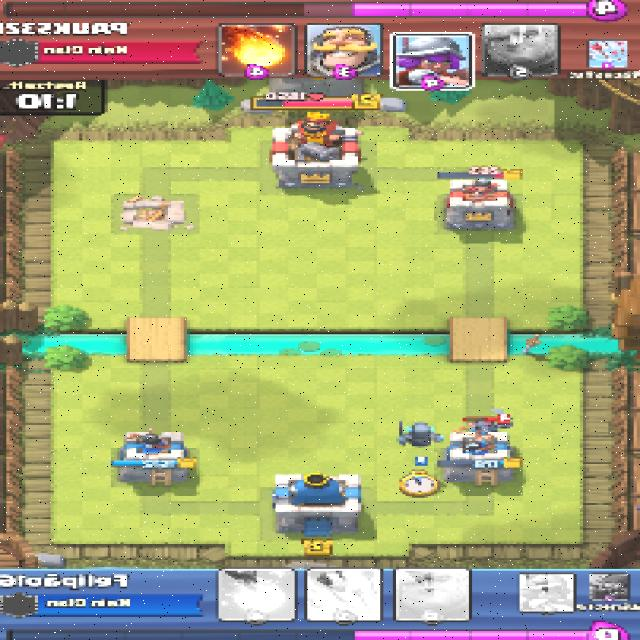Enemy-MiniPEKKA: (466, 417, 509, 432)
Player-MiniPEKKA: (396, 422, 445, 447)
